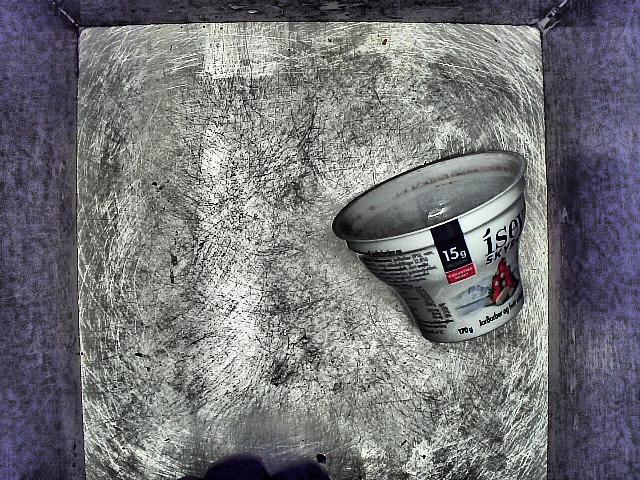Plastic: (327, 145, 530, 343)
